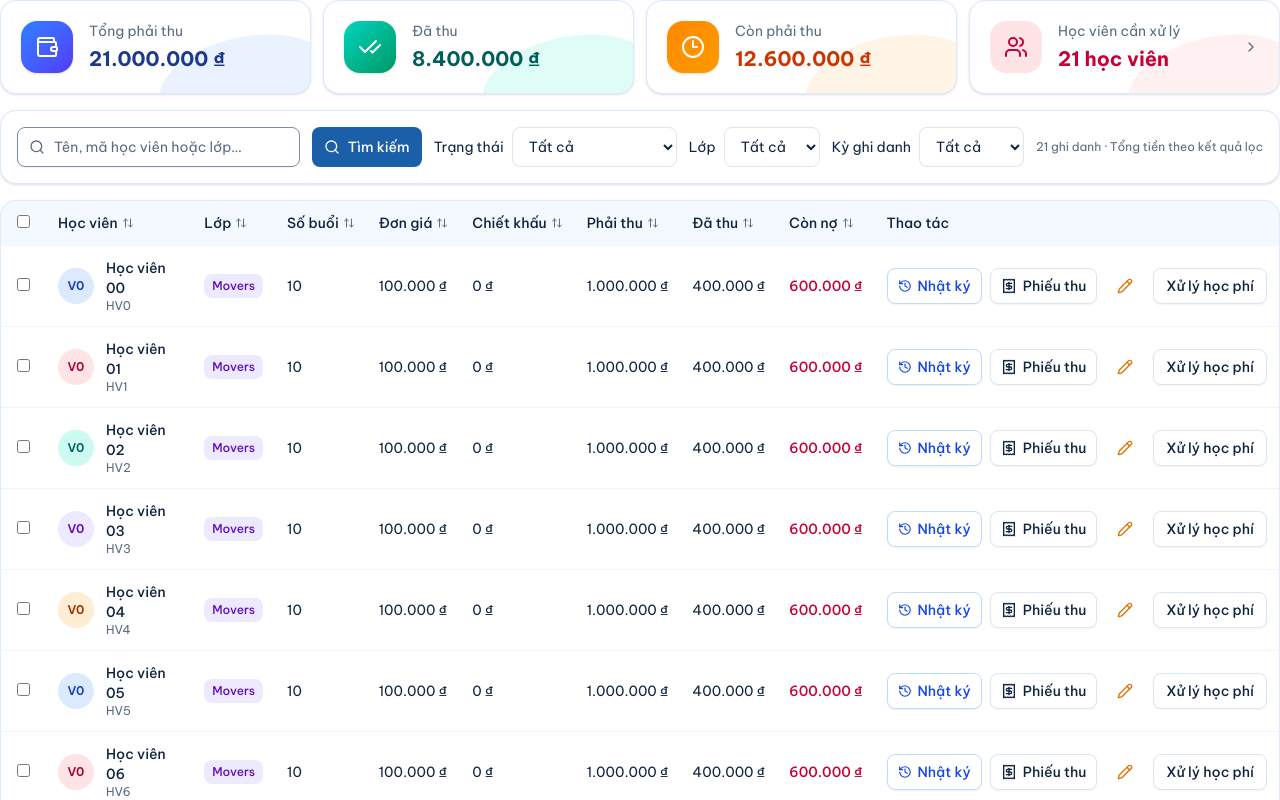
Scenario: paginates and searches the financial card list
Click the button "Còn phải thu 12.600.000 ₫".
click(802, 47)  # box [646,0,957,94]
(page scrolled)
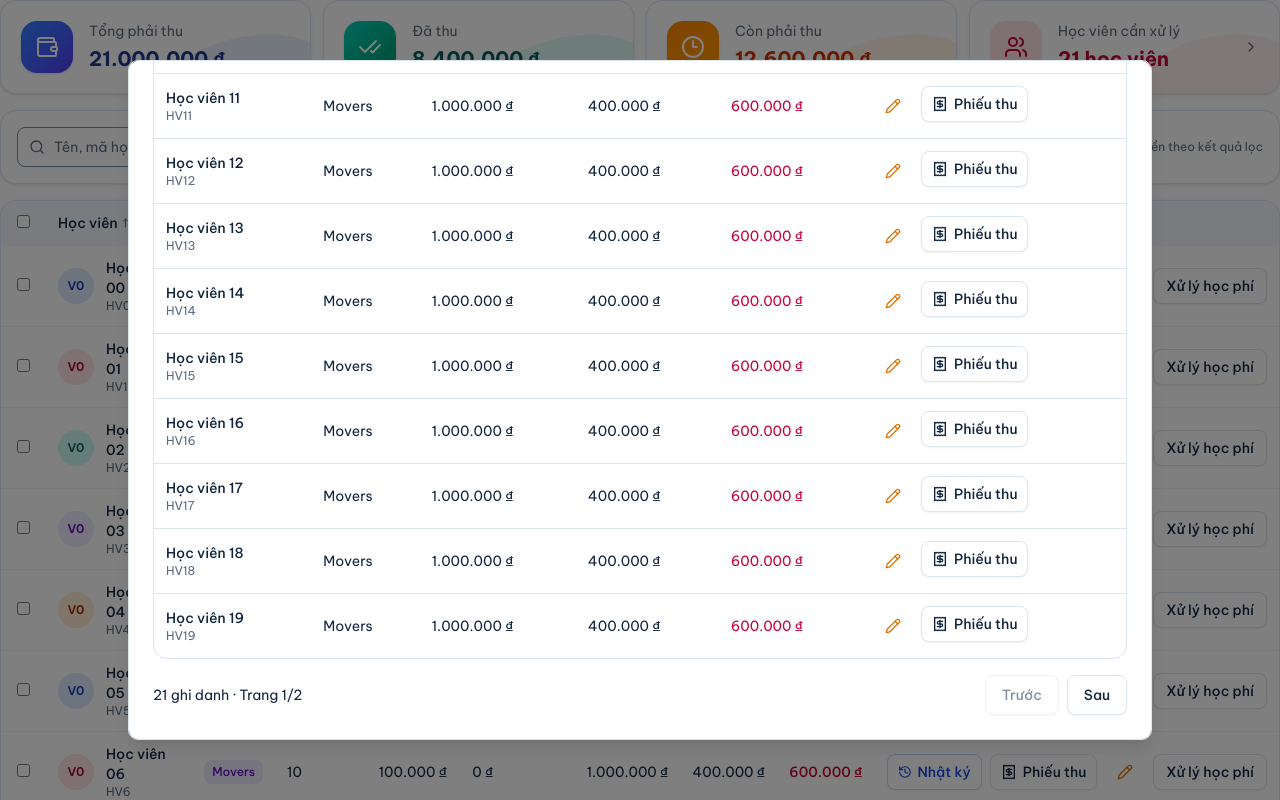
Click the button "Sau".
click(1097, 695)  # box [1067,675,1127,715]
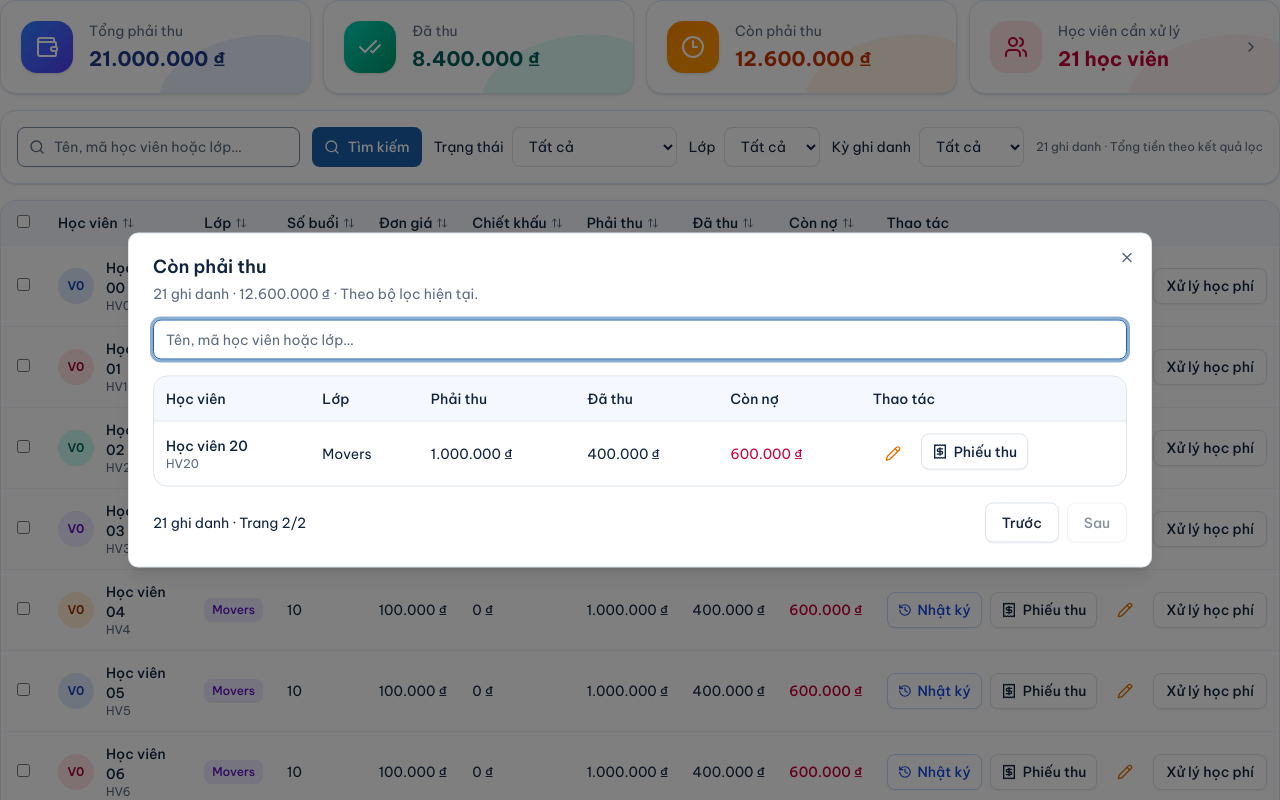
Type "Học viên 00" into the field named "Tìm trong danh sách học phí".
click(640, 340); type("Học viên 00")  # box [153,320,1127,360]
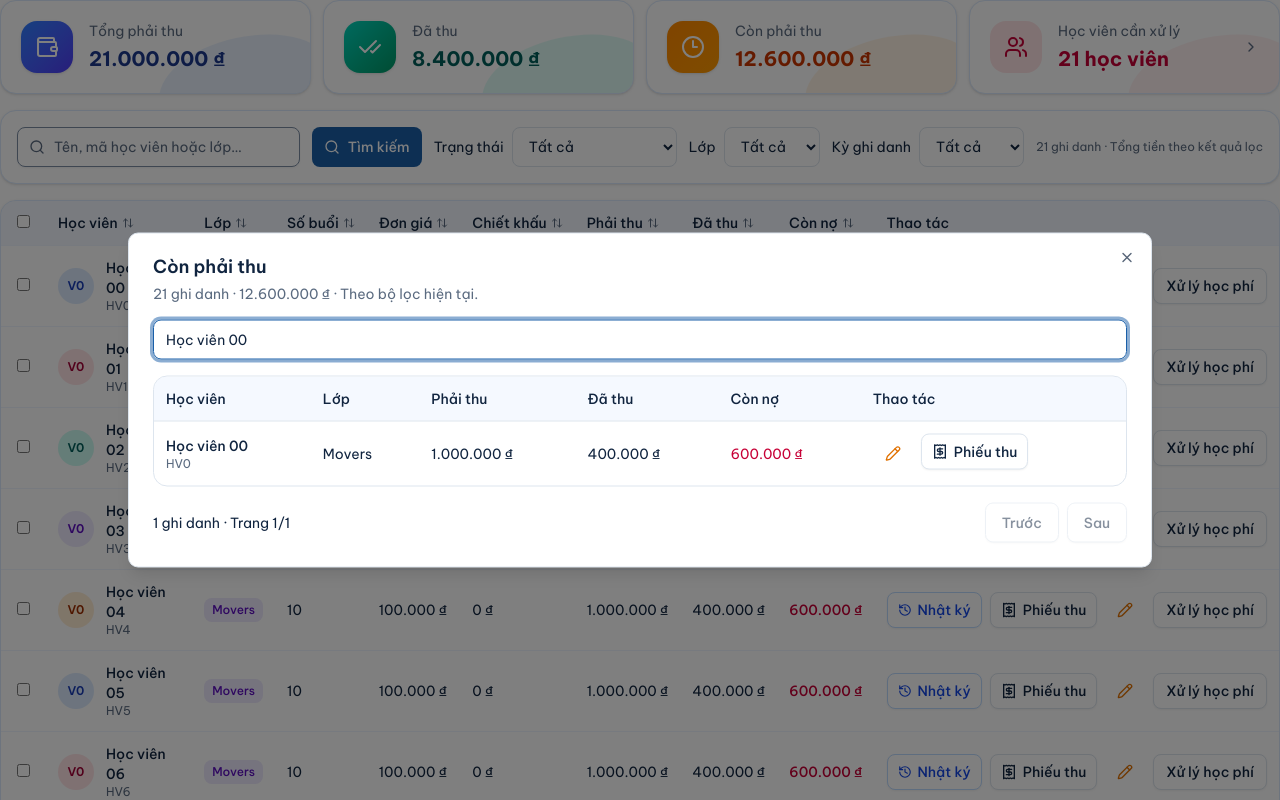
expect the text "Học viên 00" is shown: met, box [166,436,248,454]
